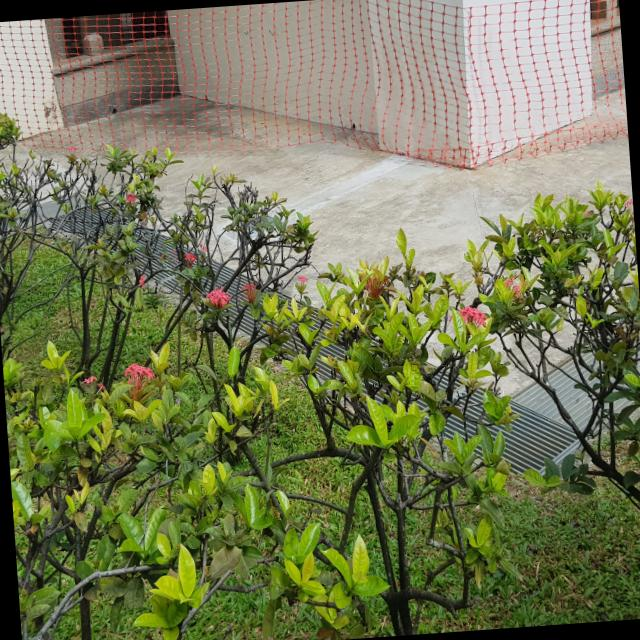Chinese-Ixora: (122, 359, 156, 402), (447, 304, 488, 336), (358, 270, 389, 298), (204, 284, 232, 311), (80, 372, 105, 397), (237, 280, 259, 304), (503, 275, 521, 302), (184, 252, 197, 268), (624, 198, 634, 218), (125, 192, 137, 207), (296, 274, 308, 286), (168, 248, 178, 262), (199, 241, 207, 256), (138, 275, 146, 288)
